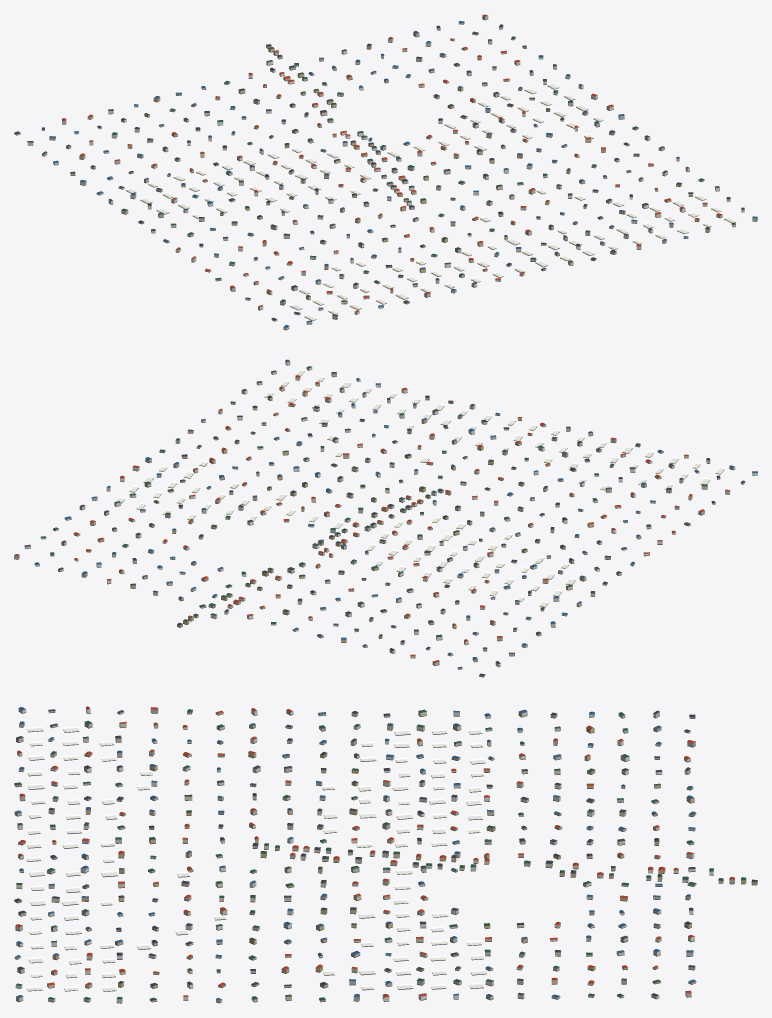
The model's file is buildings_T_E00_S04.glb.
3 renders of one model, top to bottom at view 1: azimuth 30°, elevation 25°; view 2: azimuth 150°, elevation 25°; view 3: azimuth 270°, elevation 25°, orthographic. The views are drawn at different scales.
Parts seen in each view (by area): view 1: T_E00_S04_slope_seating_foundations, T_E00_S04_roofs_agri_greenhouse_arch, T_E00_S04_walls_wall_dalat_cream_stucco, T_E00_S04_walls_wall_french_ochre_villa, T_E00_S04_walls_wall_pastel_sand_gray, T_E00_S04_walls_wall_modern_warm_white, T_E00_S04_roofs_roof_pine_green_hip, T_E00_S04_roofs_roof_terracotta_gable, T_E00_S04_roofs_roof_slate_French_villa_hip, T_E00_S04_roofs_roof_highland_blue_gable; view 2: T_E00_S04_slope_seating_foundations, T_E00_S04_roofs_agri_greenhouse_arch, T_E00_S04_walls_wall_dalat_cream_stucco, T_E00_S04_walls_wall_french_ochre_villa, T_E00_S04_walls_wall_pastel_sand_gray, T_E00_S04_walls_wall_modern_warm_white, T_E00_S04_roofs_roof_pine_green_hip, T_E00_S04_roofs_roof_terracotta_gable, T_E00_S04_roofs_roof_slate_French_villa_hip, T_E00_S04_roofs_roof_highland_blue_gable; view 3: T_E00_S04_slope_seating_foundations, T_E00_S04_roofs_agri_greenhouse_arch, T_E00_S04_walls_wall_dalat_cream_stucco, T_E00_S04_walls_wall_french_ochre_villa, T_E00_S04_walls_wall_pastel_sand_gray, T_E00_S04_walls_wall_modern_warm_white, T_E00_S04_roofs_roof_terracotta_gable, T_E00_S04_roofs_roof_slate_French_villa_hip, T_E00_S04_roofs_roof_pine_green_hip, T_E00_S04_roofs_roof_highland_blue_gable.
Boxes of the visible parts, x1=… form: T_E00_S04_slope_seating_foundations: x1=14, y1=19, x2=757, y2=330; T_E00_S04_roofs_agri_greenhouse_arch: x1=125, y1=82, x2=736, y2=320; T_E00_S04_walls_wall_dalat_cream_stucco: x1=27, y1=22, x2=757, y2=314; T_E00_S04_walls_wall_french_ochre_villa: x1=49, y1=33, x2=699, y2=303; T_E00_S04_walls_wall_pastel_sand_gray: x1=14, y1=16, x2=710, y2=324; T_E00_S04_walls_wall_modern_warm_white: x1=53, y1=26, x2=735, y2=329; T_E00_S04_roofs_roof_pine_green_hip: x1=42, y1=31, x2=744, y2=302; T_E00_S04_roofs_roof_terracotta_gable: x1=62, y1=14, x2=722, y2=312; T_E00_S04_roofs_roof_slate_French_villa_hip: x1=14, y1=24, x2=709, y2=320; T_E00_S04_roofs_roof_highland_blue_gable: x1=49, y1=21, x2=757, y2=327; T_E00_S04_slope_seating_foundations: x1=14, y1=364, x2=757, y2=677; T_E00_S04_roofs_agri_greenhouse_arch: x1=115, y1=369, x2=724, y2=606; T_E00_S04_walls_wall_dalat_cream_stucco: x1=34, y1=361, x2=699, y2=666; T_E00_S04_walls_wall_french_ochre_villa: x1=50, y1=383, x2=661, y2=661; T_E00_S04_walls_wall_pastel_sand_gray: x1=14, y1=373, x2=735, y2=676; T_E00_S04_walls_wall_modern_warm_white: x1=24, y1=367, x2=757, y2=649; T_E00_S04_roofs_roof_pine_green_hip: x1=41, y1=366, x2=707, y2=653; T_E00_S04_roofs_roof_terracotta_gable: x1=14, y1=375, x2=729, y2=662; T_E00_S04_roofs_roof_slate_French_villa_hip: x1=24, y1=372, x2=745, y2=675; T_E00_S04_roofs_roof_highland_blue_gable: x1=35, y1=359, x2=757, y2=659; T_E00_S04_slope_seating_foundations: x1=14, y1=711, x2=757, y2=1003; T_E00_S04_roofs_agri_greenhouse_arch: x1=26, y1=726, x2=486, y2=991; T_E00_S04_walls_wall_dalat_cream_stucco: x1=14, y1=711, x2=696, y2=1002; T_E00_S04_walls_wall_french_ochre_villa: x1=14, y1=714, x2=757, y2=988; T_E00_S04_walls_wall_pastel_sand_gray: x1=16, y1=708, x2=734, y2=1001; T_E00_S04_walls_wall_modern_warm_white: x1=14, y1=708, x2=713, y2=1002; T_E00_S04_roofs_roof_terracotta_gable: x1=15, y1=706, x2=734, y2=997; T_E00_S04_roofs_roof_slate_French_villa_hip: x1=14, y1=709, x2=757, y2=996; T_E00_S04_roofs_roof_pine_green_hip: x1=14, y1=709, x2=746, y2=1000; T_E00_S04_roofs_roof_highland_blue_gable: x1=14, y1=707, x2=696, y2=1000.
Bounding box in the file's own units: 1712 × 31.27 × 1866.
